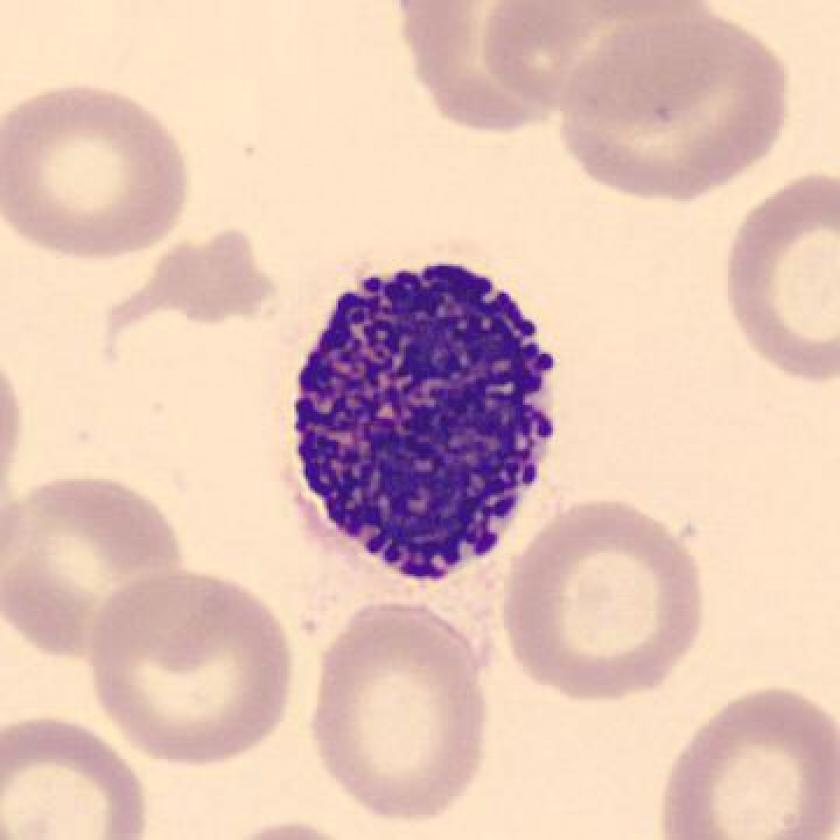basophil: (283, 253, 568, 591)
